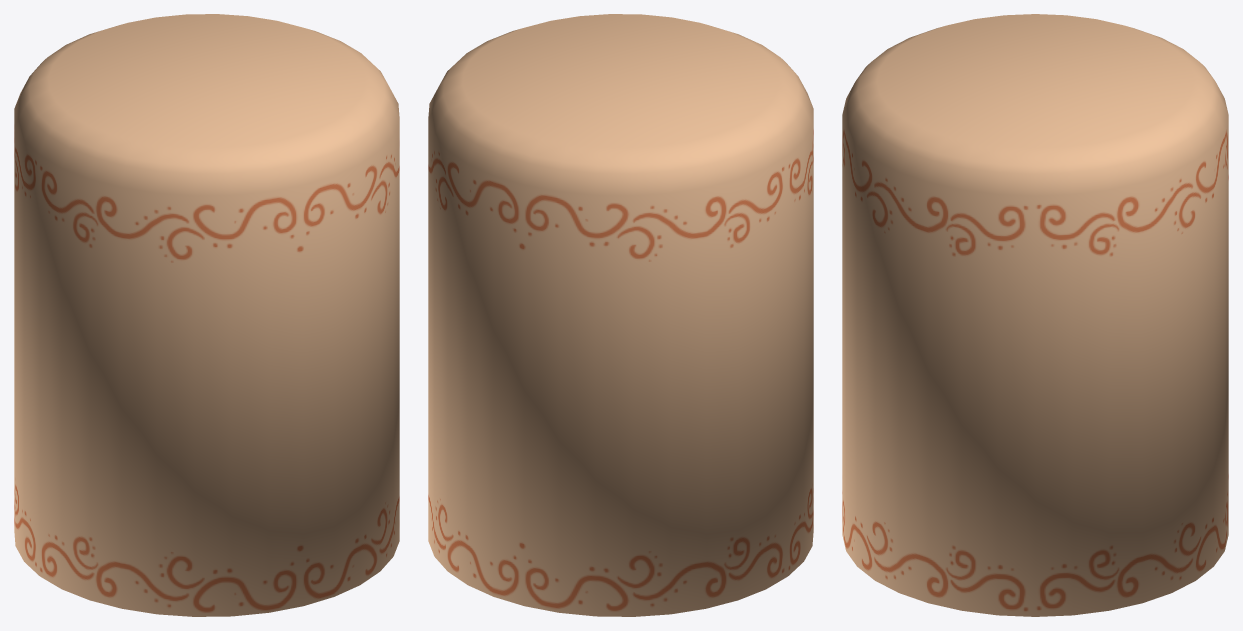
The model's file is bpw lantern.fbx.
3 renders of one model, left to right at view 1: azimuth 30°, elevation 25°; view 2: azimuth 150°, elevation 25°; view 3: azimuth 270°, elevation 25°, orthographic.
Parts seen in each view (by area): view 1: Cylinder; view 2: Cylinder; view 3: Cylinder.
Part boxes in pixels (x1,y1,x2,y2): Cylinder: [14, 14, 399, 616]; Cylinder: [428, 14, 813, 616]; Cylinder: [842, 14, 1228, 616].
Bounding box in the file's own units: 120 × 155 × 120.
